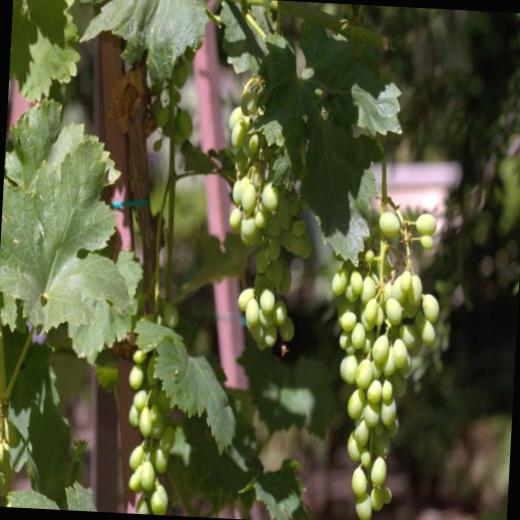Orange: (319, 207, 443, 520), (220, 91, 320, 354), (122, 349, 180, 515), (162, 301, 180, 330), (174, 56, 190, 88), (176, 109, 193, 138), (6, 422, 23, 448), (157, 108, 170, 126), (152, 138, 162, 154), (0, 468, 6, 492)
